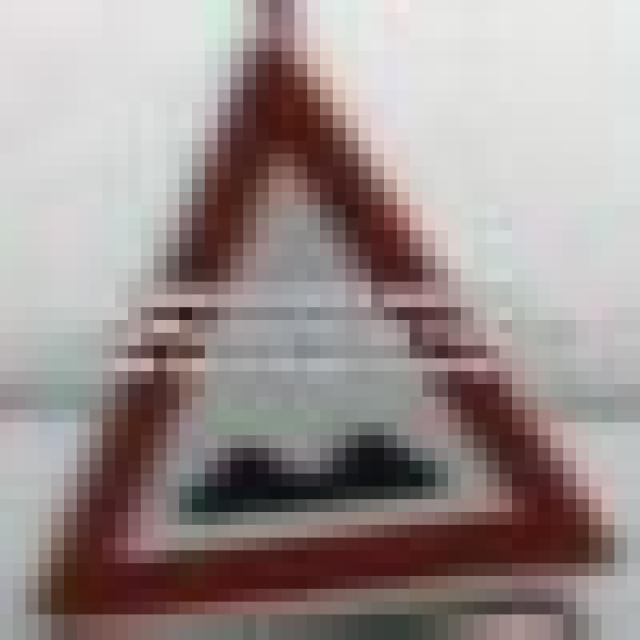HUMP_OR_ROUGH_ROAD: (13, 39, 627, 602)
